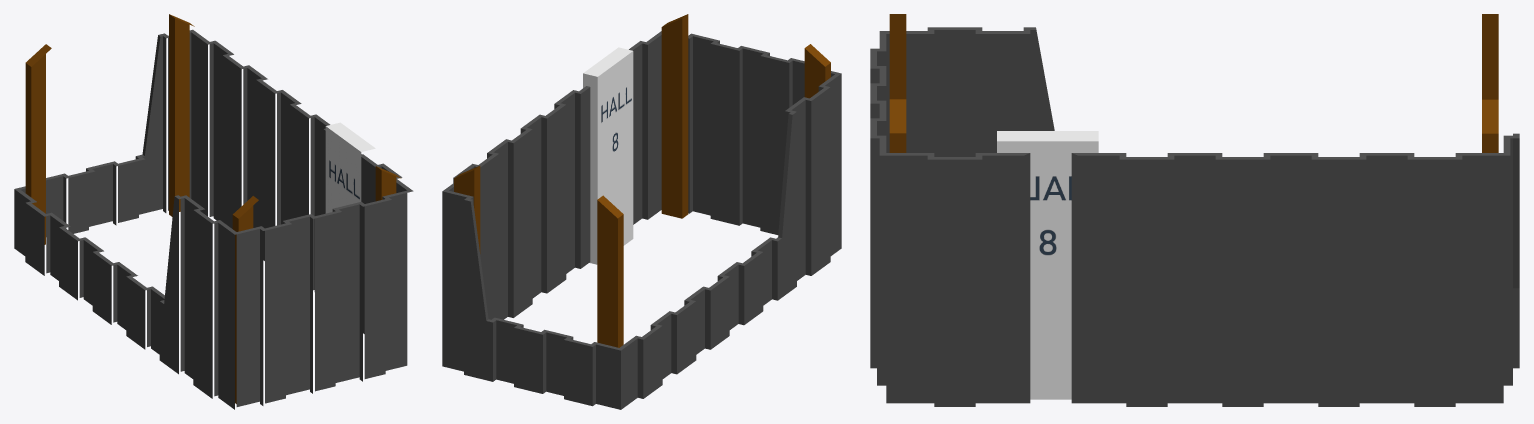
Rendered from Hall_8.fbx.
3 renders of one model, left to right at view 1: azimuth 30°, elevation 25°; view 2: azimuth 150°, elevation 25°; view 3: azimuth 270°, elevation 25°, orthographic. The views are drawn at different scales.
Visible parts, largest first — view 1: Hall_8; view 2: Hall_8; view 3: Hall_8.
Part boxes in pixels (x1=…): Hall_8: x1=14, y1=14, x2=413, y2=409; Hall_8: x1=442, y1=14, x2=841, y2=409; Hall_8: x1=870, y1=14, x2=1519, y2=406.
Size of the model in its own units: 132 by 134 by 273.
